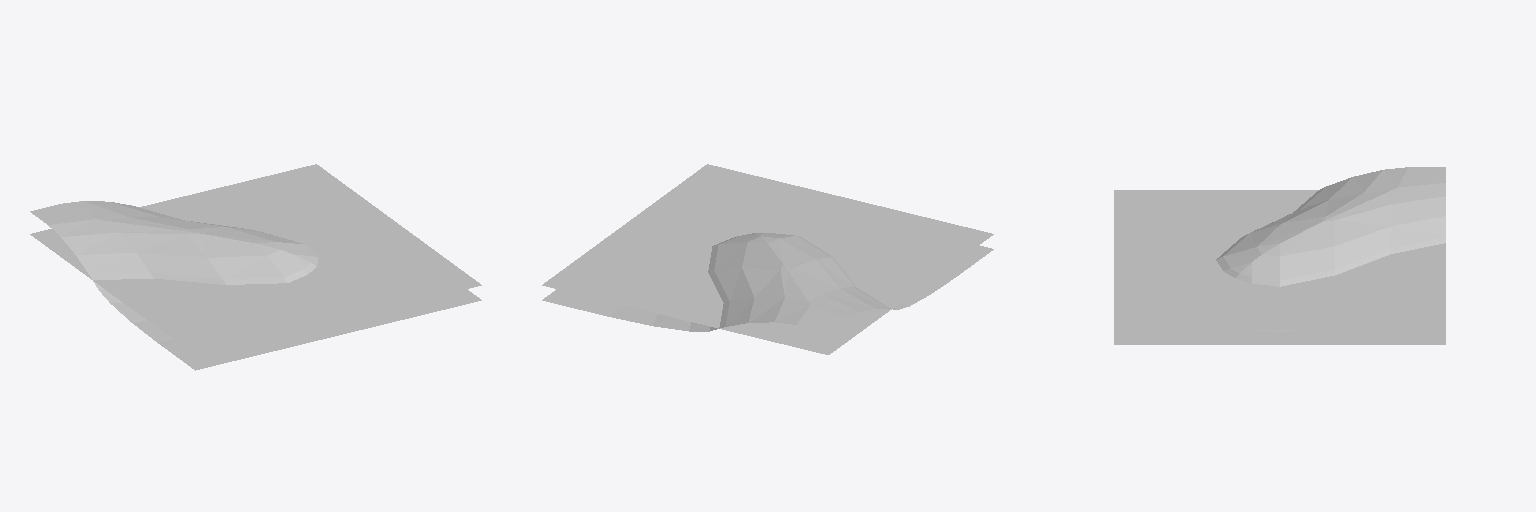
File: Water-OutsideCorner.obj
The picture shows the model from 3 angles: view 1: azimuth 30°, elevation 25°; view 2: azimuth 150°, elevation 25°; view 3: azimuth 270°, elevation 25°; orthographic projection.
Visible parts, largest first — view 1: Water-OutsideCorner_Plane.006; view 2: Water-OutsideCorner_Plane.006; view 3: Water-OutsideCorner_Plane.006.
Part boxes in pixels (left/top/right/bottom): Water-OutsideCorner_Plane.006: left=30, top=164, right=481, bottom=370; Water-OutsideCorner_Plane.006: left=542, top=164, right=993, bottom=354; Water-OutsideCorner_Plane.006: left=1114, top=167, right=1445, bottom=344.
Bounding box in the file's own units: 2 × 0.25 × 2.